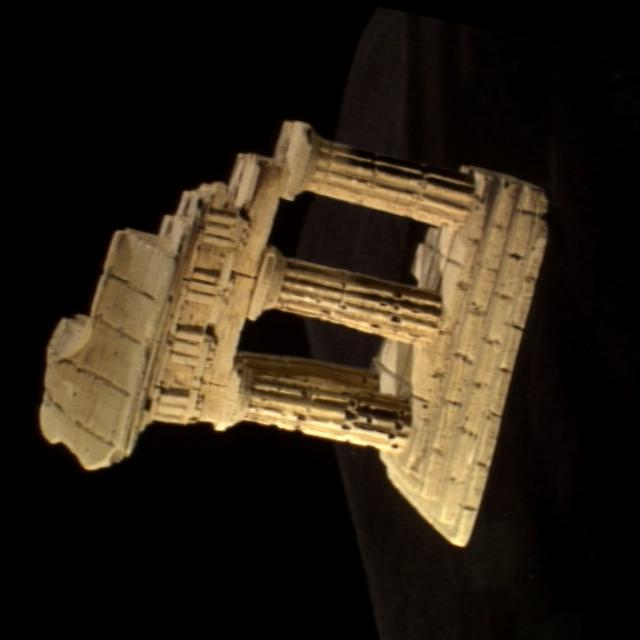Instance-Segmentation: (38, 121, 544, 545)
